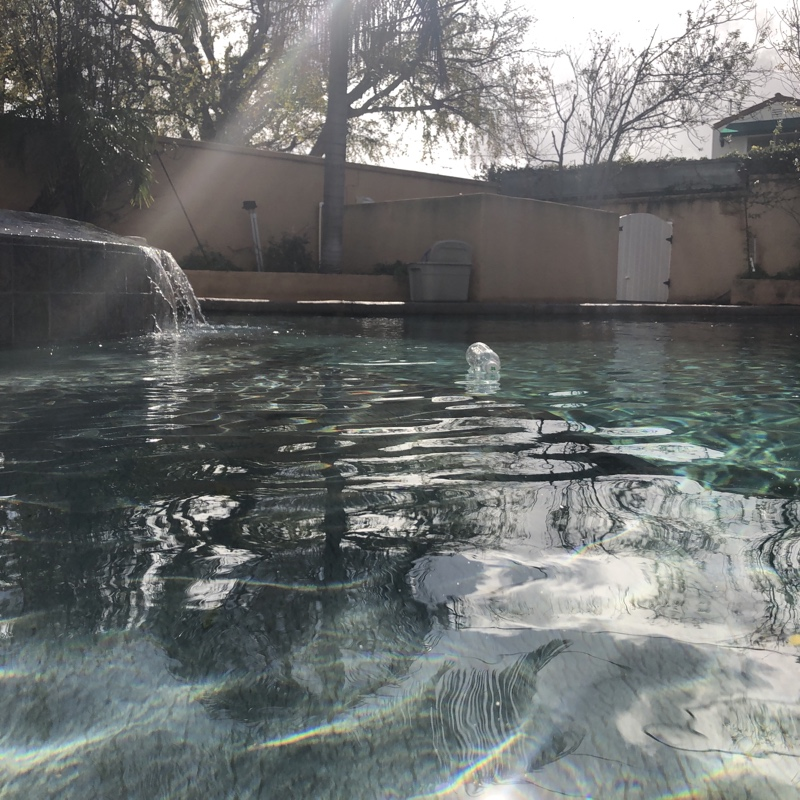Plastic Bottle: (464, 339, 501, 380)
